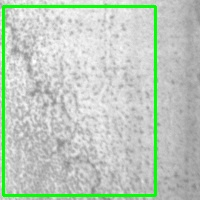pitted_surface: (3, 6, 155, 195)
